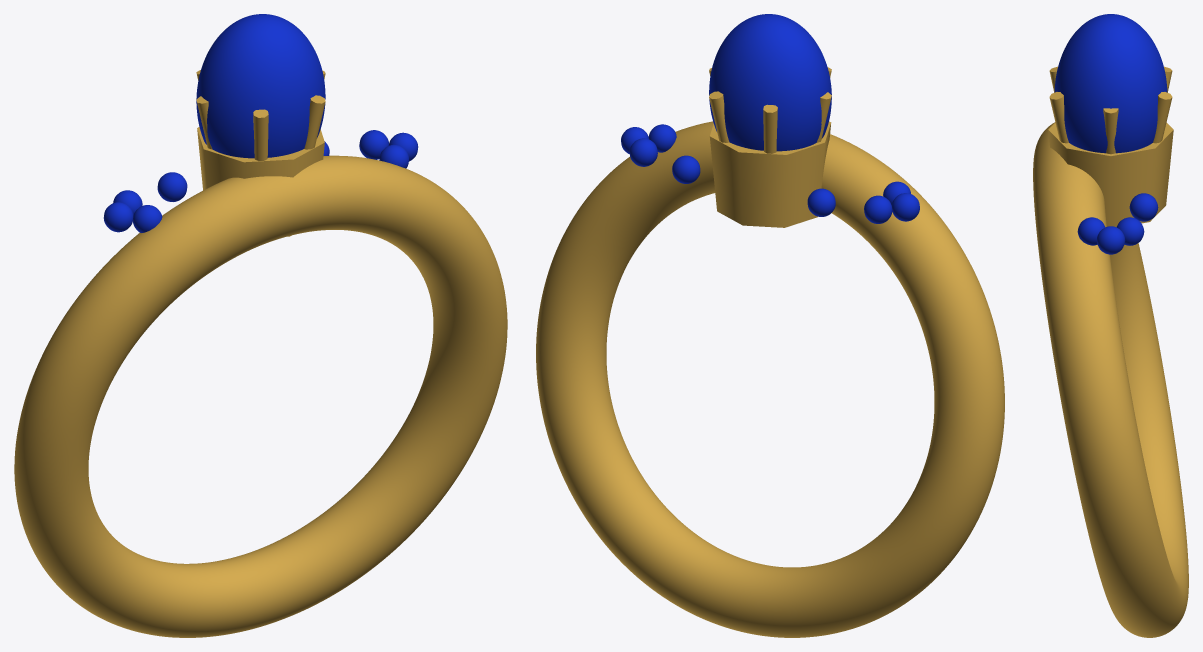
Rendered from ring.glb.
The picture shows the model from 3 angles, left to right: view 1: azimuth 30°, elevation 25°; view 2: azimuth 150°, elevation 25°; view 3: azimuth 270°, elevation 25°; orthographic projection. The views are drawn at different scales.
Parts seen in each view (by area): view 1: metal (×3), gem (×3); view 2: metal (×3), gem (×6); view 3: metal (×5), gem (×5).
Part boxes in pixels (x1=…): metal (×3): x1=14, y1=109, x2=507, y2=637; gem (×3): x1=103, y1=14, x2=325, y2=232; metal (×3): x1=536, y1=104, x2=1004, y2=637; gem (×6): x1=629, y1=14, x2=919, y2=223; metal (×5): x1=1033, y1=92, x2=1188, y2=637; gem (×5): x1=1054, y1=14, x2=1167, y2=254.
Bounding box in the file's own units: 2.77 × 3.45 × 0.8197.
